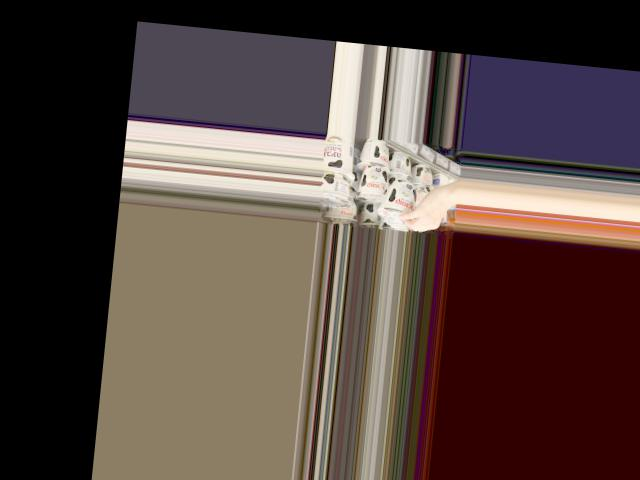cotage: (377, 179, 416, 219)
